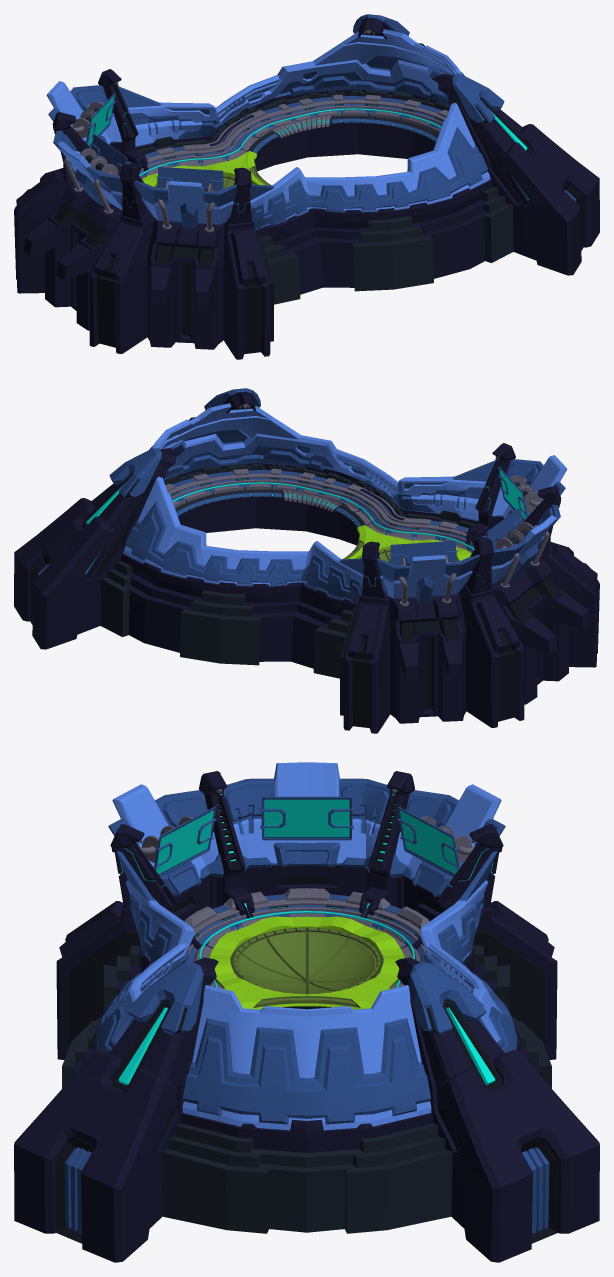
File: arena_vortexclimb.fbx
3 renders of one model, top to bottom at view 1: azimuth 30°, elevation 25°; view 2: azimuth 150°, elevation 25°; view 3: azimuth 270°, elevation 25°, orthographic. The views are drawn at different scales.
Parts seen in each view (by area): view 1: Arena, Glass, Glow; view 2: Arena, Glass, Glow; view 3: Arena, Glass, Glow.
Part boxes in pixels (x1,y1,x2,y2): Arena: [14, 14, 599, 359]; Glass: [46, 29, 490, 229]; Glow: [139, 108, 441, 176]; Arena: [14, 388, 599, 733]; Glass: [123, 403, 567, 603]; Glow: [172, 482, 474, 550]; Arena: [14, 771, 599, 1262]; Glass: [96, 762, 517, 1130]; Glow: [198, 911, 415, 987].
Bounding box in the file's own units: 53.95 × 19.67 × 41.28.
7 materials, 4 textured.
